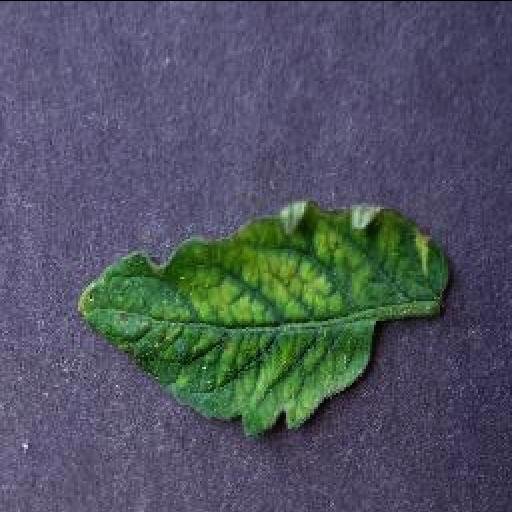Mosaic Virus: (74, 198, 452, 436)
